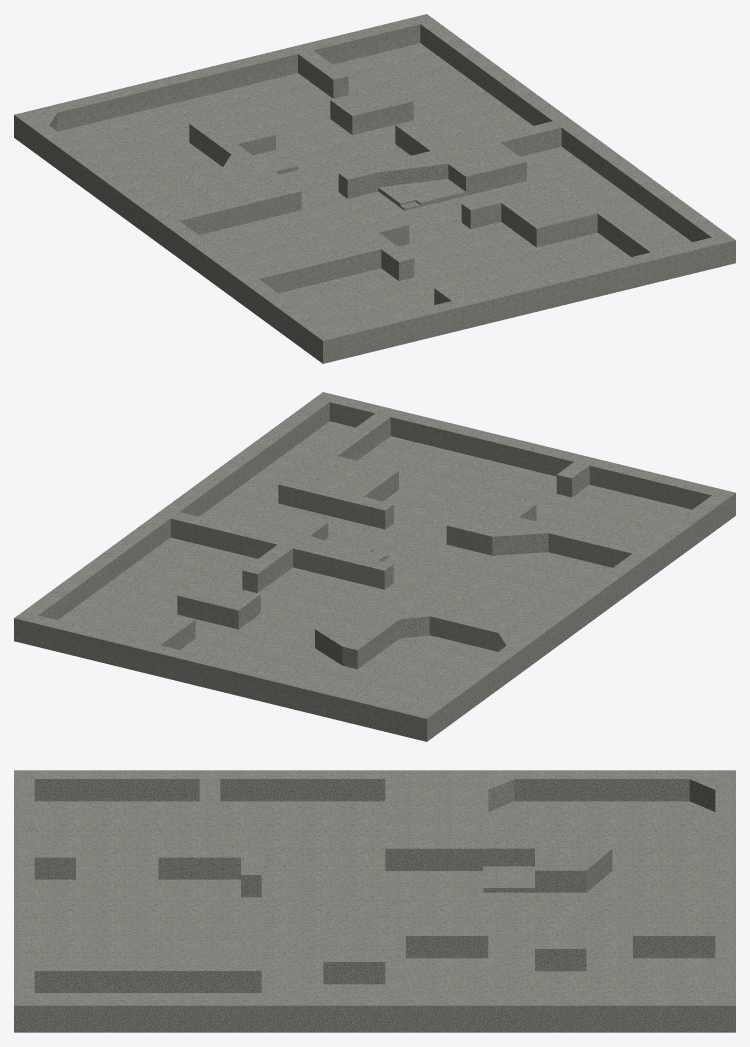
The model's file is MAPforUOGPCGF.obj.
3 views of the same model, one above another, from view 1: azimuth 30°, elevation 25°; view 2: azimuth 150°, elevation 25°; view 3: azimuth 270°, elevation 25° (orthographic). The views are drawn at different scales.
Parts seen in each view (by area): view 1: Part5, Part2, Part6, Part31, Part29, Part4, Part18, Part19, Part1, Part26, Part28, Part16 (+11 smaller); view 2: Part5, Part2, Part29, Part31, Part6, Part4, Part18, Part19, Part26, Part16, Part28, Part1 (+12 smaller); view 3: Part5, Part31, Part2, Part4, Part28, Part6, Part29, Part19, Part18, Part26, Part8, Part20 (+14 smaller).
Part boxes in pixels (x1,y1,x2,y2): Part5: [14, 43, 735, 363]; Part2: [14, 111, 338, 359]; Part6: [330, 237, 720, 355]; Part31: [412, 14, 735, 262]; Part29: [29, 18, 420, 131]; Part4: [135, 159, 301, 234]; Part18: [492, 181, 597, 247]; Part19: [431, 136, 526, 195]; Part1: [250, 243, 381, 293]; Part26: [330, 85, 413, 134]; Part28: [554, 177, 665, 256]; Part16: [338, 151, 438, 198]; Part5: [14, 421, 735, 741]; Part2: [411, 489, 735, 737]; Part29: [29, 615, 419, 733]; Part31: [14, 392, 337, 640]; Part6: [329, 396, 720, 509]; Part4: [395, 575, 561, 651]; Part18: [293, 456, 398, 521]; Part19: [231, 507, 328, 558]; Part26: [177, 579, 260, 629]; Part16: [293, 542, 393, 589]; Part28: [278, 413, 390, 506]; Part1: [510, 517, 640, 567]; Part5: [14, 801, 735, 1032]; Part31: [14, 997, 735, 1027]; Part2: [14, 770, 735, 801]; Part4: [385, 779, 488, 870]; Part28: [34, 962, 261, 992]; Part6: [14, 779, 34, 996]; Part29: [715, 779, 735, 996]; Part19: [323, 927, 405, 984]; Part18: [158, 927, 261, 961]; Part26: [535, 914, 586, 971]; Part8: [158, 848, 261, 879]; Part20: [406, 927, 488, 958].
Size of the model in its own units: 108 by 5.75 by 140.
Materials: 2 (2 with a texture image).
